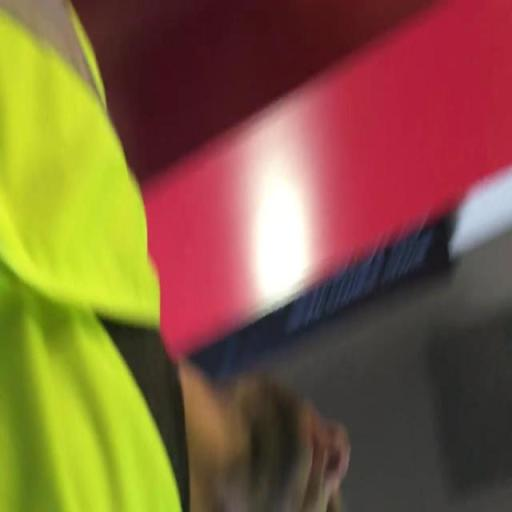vest: (0, 9, 190, 512)
